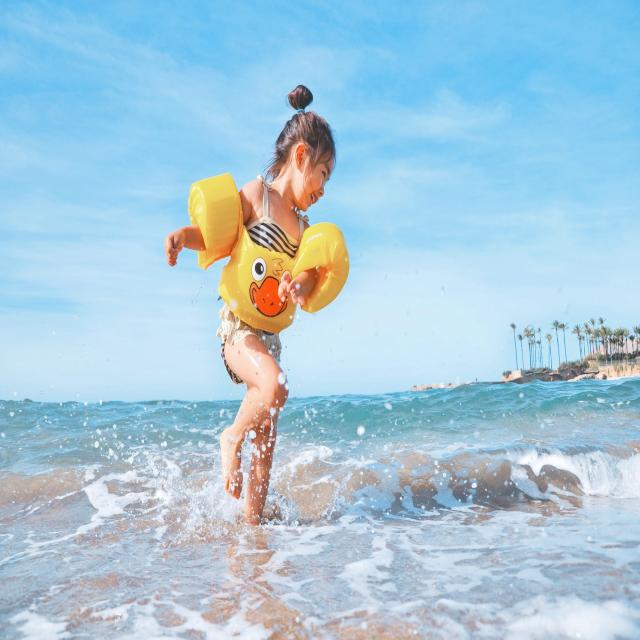child: (164, 84, 336, 514)
